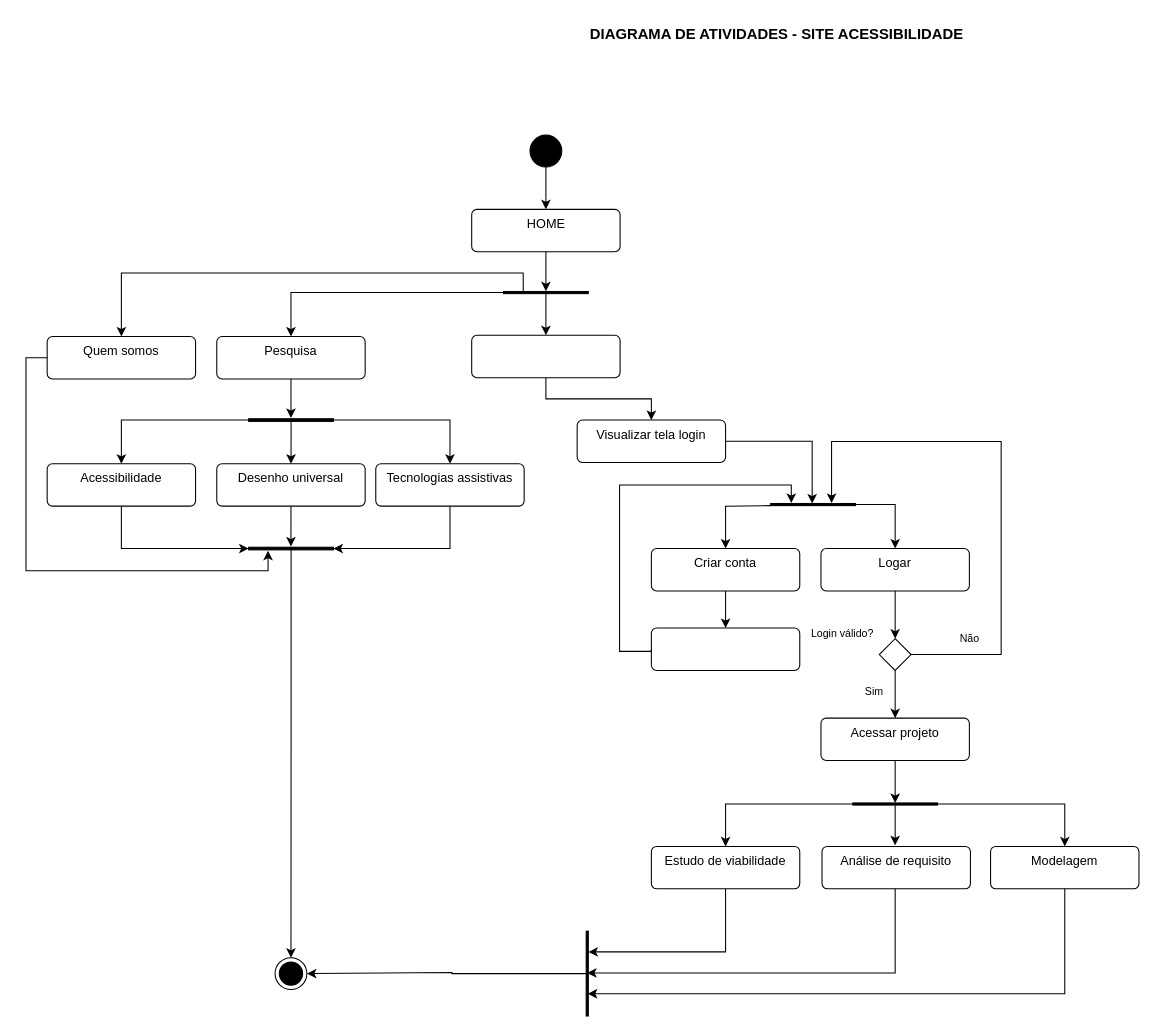
Some shapes in this 1158 by 1035 pixel diagram are drawn without their labels. The centre of each missing label's shape, as x and y in pixels:
Inserir conta: the point at 725,648
Projeto: the point at 545,356
